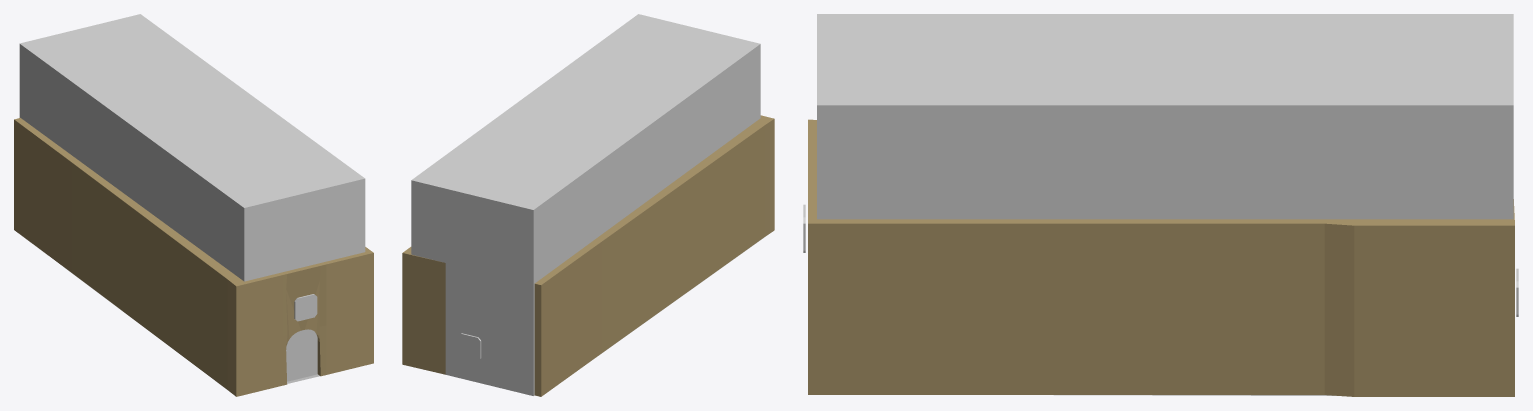
The model's file is carmine2.glb.
3 views of the same model, side by side, from view 1: azimuth 30°, elevation 25°; view 2: azimuth 150°, elevation 25°; view 3: azimuth 270°, elevation 25° (orthographic). The views are drawn at different scales.
Parts seen in each view (by area): view 1: Placeholder, PareteL, PareteB, PareteT, 1; view 2: Placeholder, PareteL, PareteT, PareteB, 14; view 3: Placeholder, PareteR, PareteB, PareteT.
Boxes of the visible parts, box(x1,y1,x2,y2) form: Placeholder: box(19, 14, 365, 381); PareteL: box(21, 123, 235, 388); PareteB: box(226, 247, 373, 396); PareteT: box(14, 118, 27, 235); 1: box(294, 294, 317, 321); Placeholder: box(411, 14, 760, 395); PareteL: box(543, 124, 763, 390); PareteT: box(402, 247, 548, 396); PareteB: box(753, 115, 774, 237); 14: box(458, 333, 481, 360); Placeholder: box(817, 14, 1513, 219); PareteR: box(840, 219, 1486, 396); PareteB: box(808, 119, 839, 394); PareteT: box(1486, 199, 1514, 396).
Size of the model in its own units: 12.74 by 16 by 36.37.
